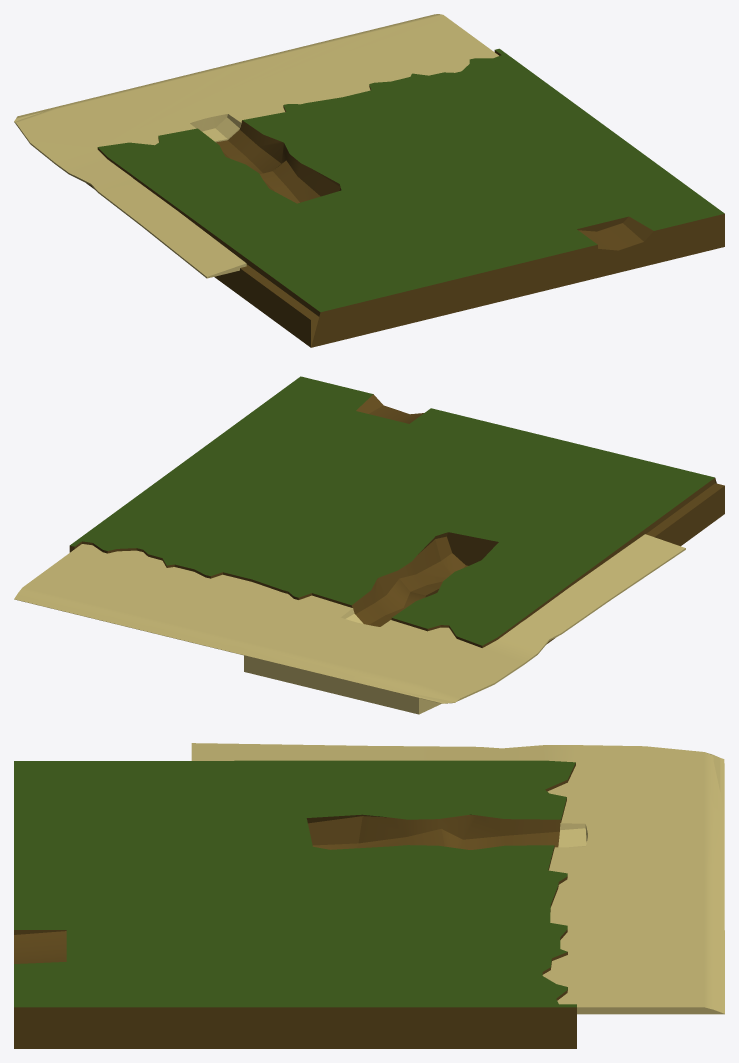
File: Ground.fbx
3 renders of one model, top to bottom at view 1: azimuth 30°, elevation 25°; view 2: azimuth 150°, elevation 25°; view 3: azimuth 270°, elevation 25°, orthographic. The views are drawn at different scales.
Visible parts, largest first — view 1: Ground_Piece; view 2: Ground_Piece; view 3: Ground_Piece.
Boxes of the visible parts, box(x1,y1,x2,y2) form: Ground_Piece: box(14, 14, 724, 347); Ground_Piece: box(14, 376, 724, 714); Ground_Piece: box(14, 743, 724, 1048).
Size of the model in its own units: 8980 by 638 by 9909.
